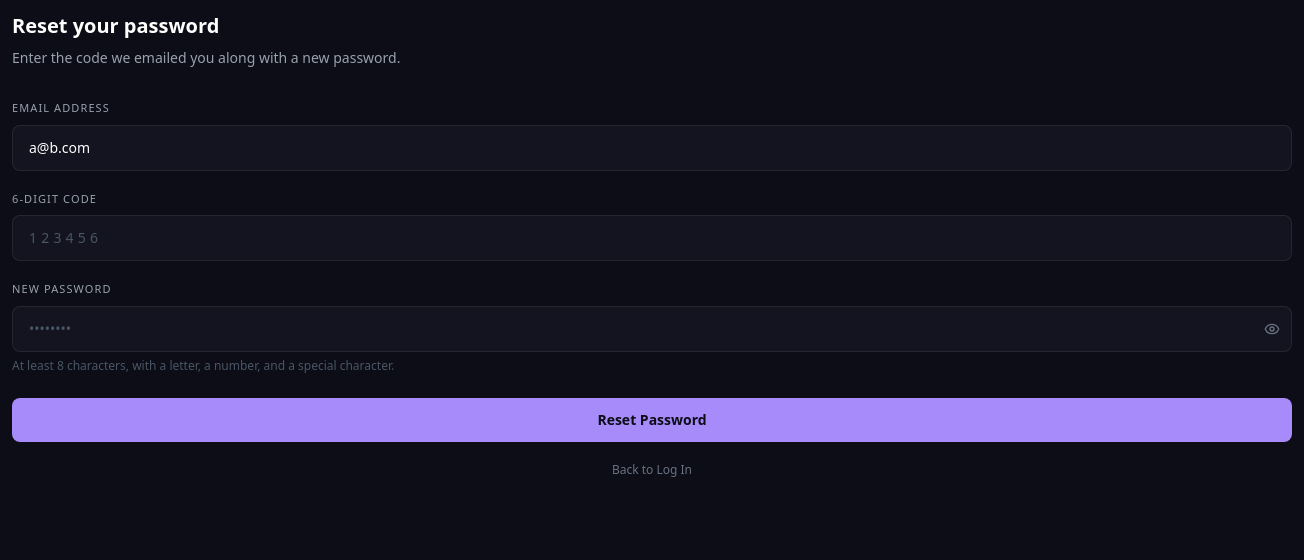
ResetPasswordForm › shows the server's error message on failure
Type "000000" into the field with placeholder "123456".
click(652, 238); type("000000")  # box [12,215,1292,261]
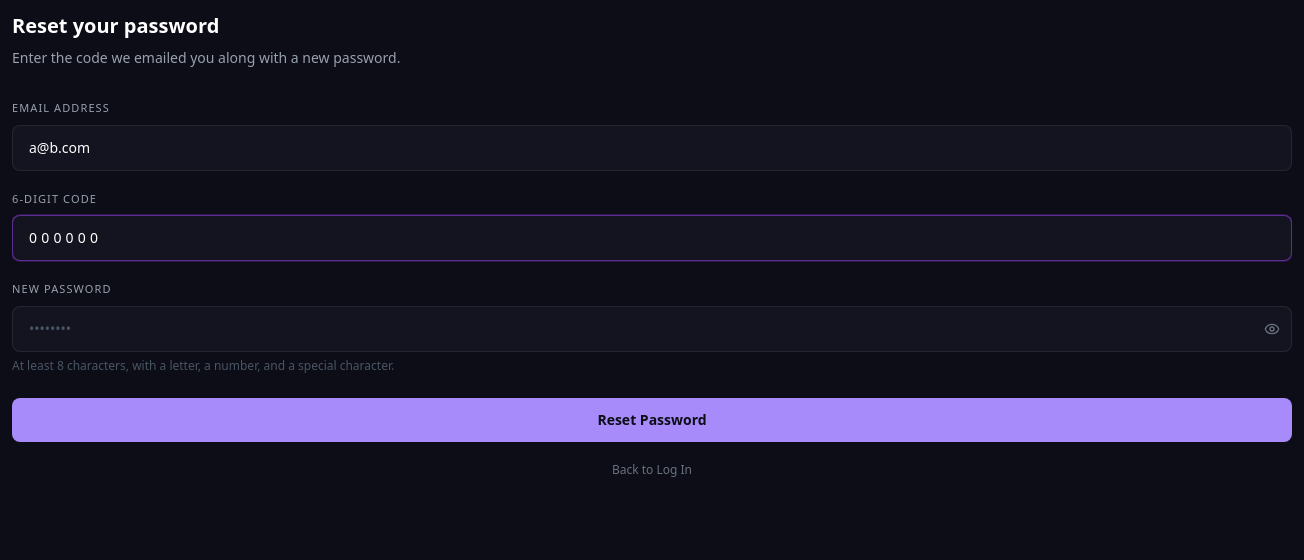
Type "NewPass1!" into the password field with placeholder "••••••••".
click(652, 328); type("NewPass1!")  # box [12,306,1292,352]
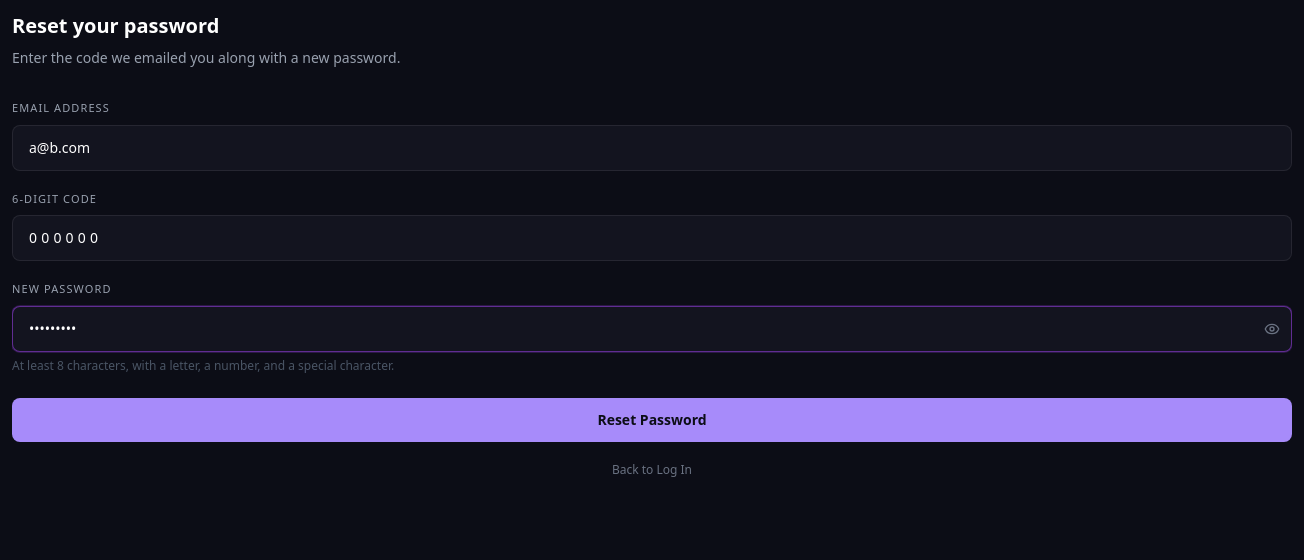
Click the button "Reset Password".
click(652, 420)  # box [12,398,1292,442]
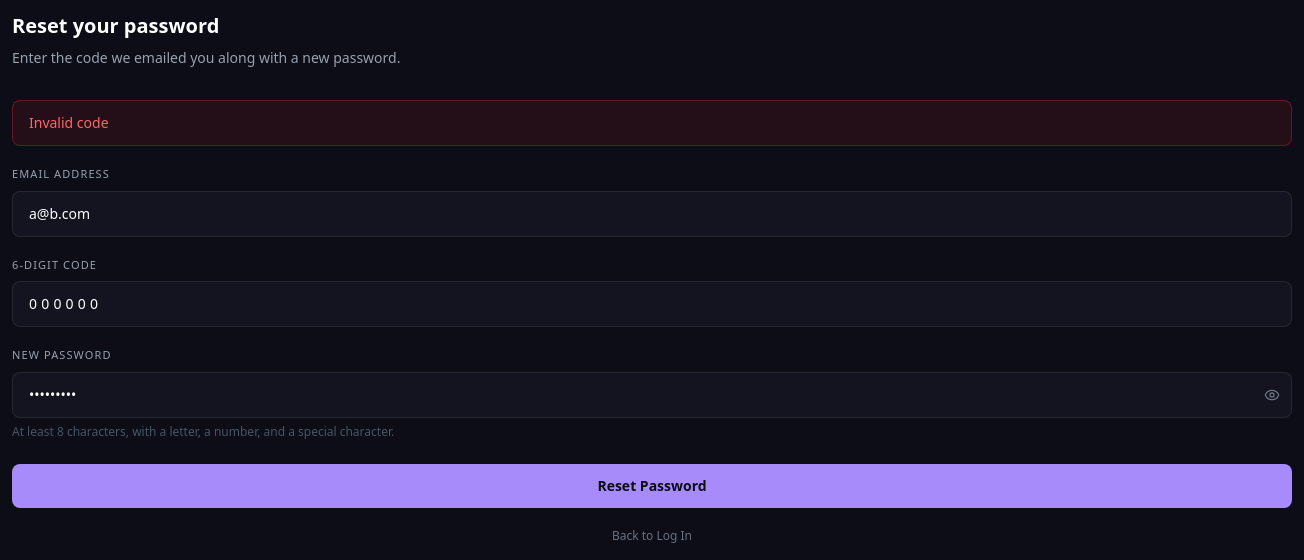
Result: the text "Invalid code" is shown at [12,100,1292,146]
